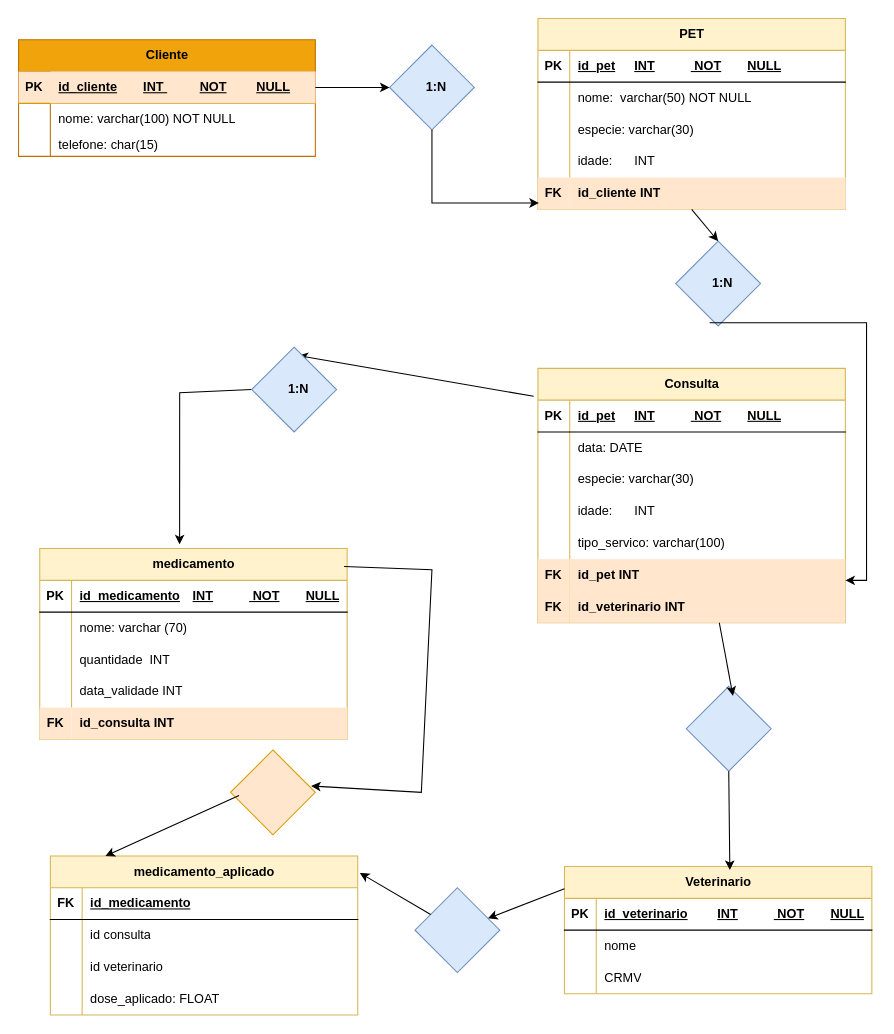
This 894x1034 diagram has some shape labels left out. The centre of each missing label's shape, as x and y in pixels:
"N:1" goes at point 728,728.
"N:N" goes at point 272,792.
